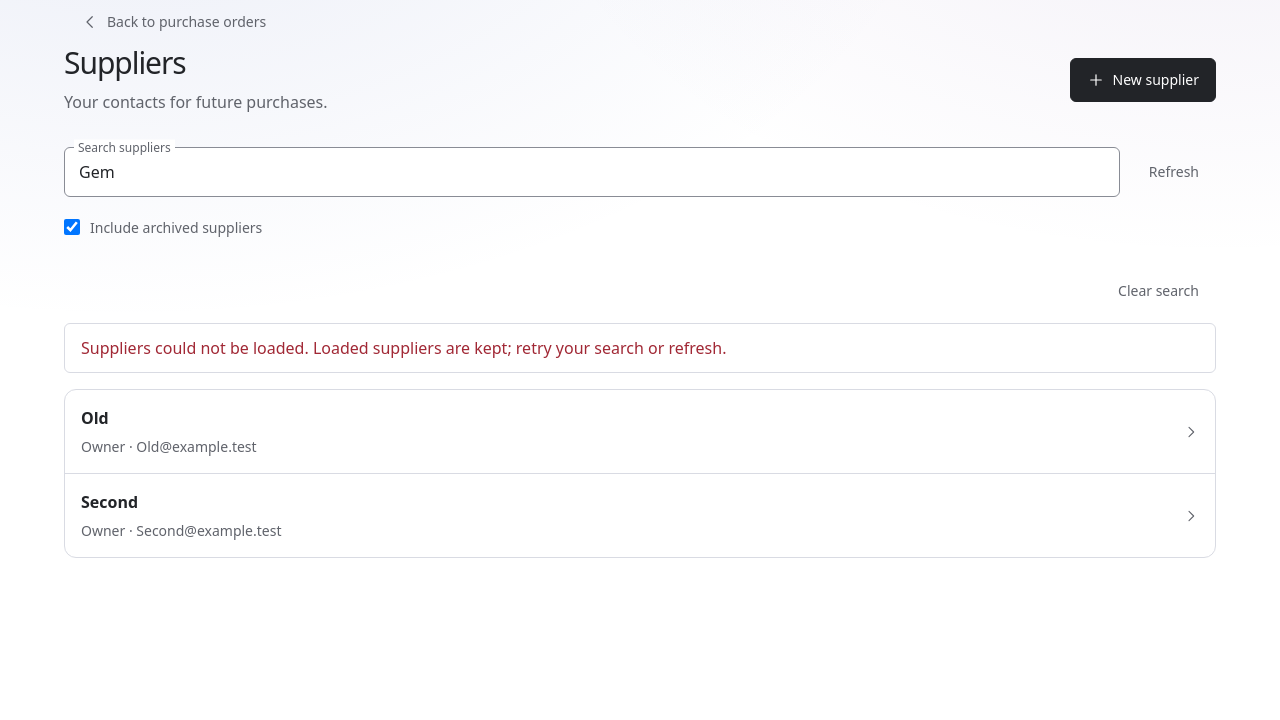
keeps the saved directory context when refreshing a later page fails
Expected: the message is shown, left=64, top=323, right=1216, bottom=373
Expected: the text "Old" is shown, left=81, top=407, right=109, bottom=429
// WHEN retrying THEN the complete refreshed extent replaces the old view.
What coordinates should you click on to do the following:
click the button with aria-label "Refresh suppliers"
I would click on:
 (1174, 172)
Its box is left=1132, top=147, right=1216, bottom=197.
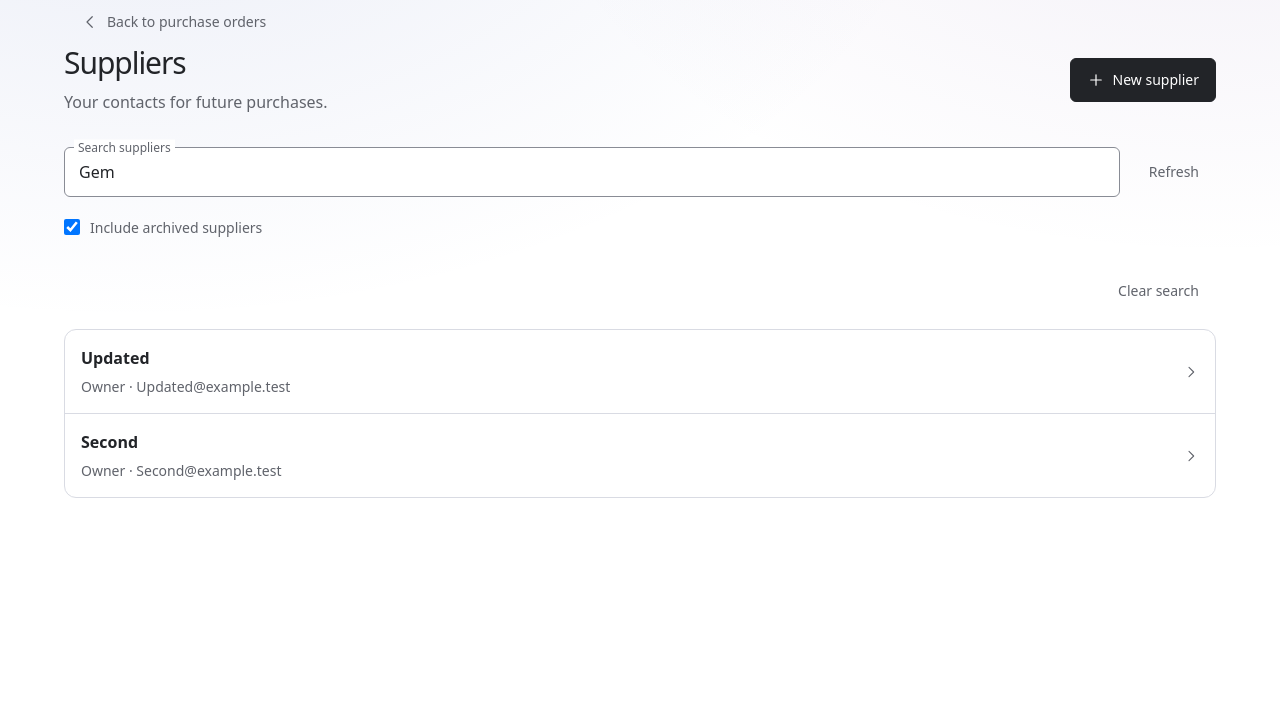
Expected: the text "Second" is shown, left=81, top=431, right=138, bottom=453
Expected: the text "Updated" is shown, left=81, top=347, right=150, bottom=369
